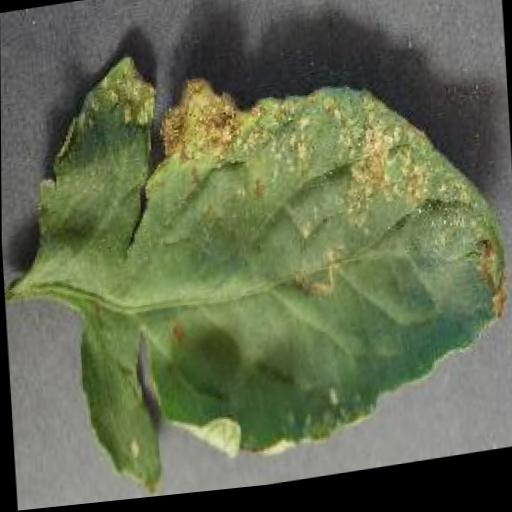Bacterial Spot: (15, 2, 512, 511)
